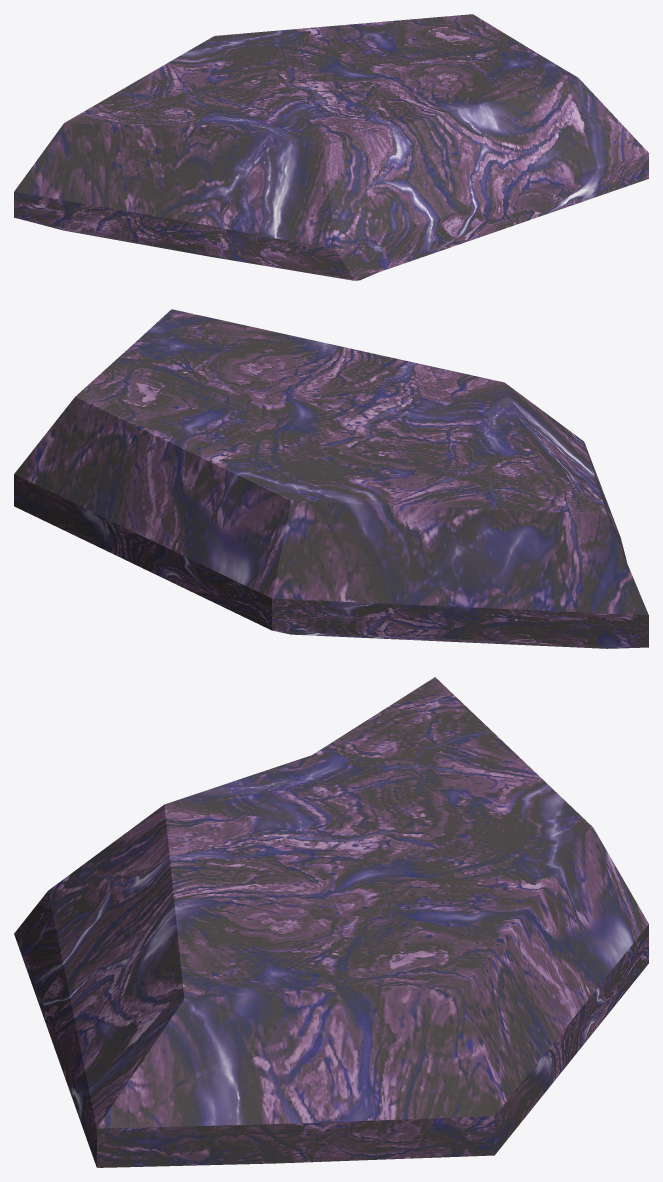
The model's file is Sea_RockL_3.fbx.
3 views of the same model, one above another, from view 1: azimuth 30°, elevation 25°; view 2: azimuth 150°, elevation 25°; view 3: azimuth 270°, elevation 25° (orthographic). The views are drawn at different scales.
Visible parts, largest first — view 1: Sea_RockL_3; view 2: Sea_RockL_3; view 3: Sea_RockL_3.
Part boxes in pixels (box(x1,y1,x2,y2)): Sea_RockL_3: box(14, 14, 648, 280); Sea_RockL_3: box(14, 309, 648, 648); Sea_RockL_3: box(14, 677, 648, 1167).
Size of the model in its own units: 4120 by 870 by 2876.
Materials: 1 (1 with a texture image).
